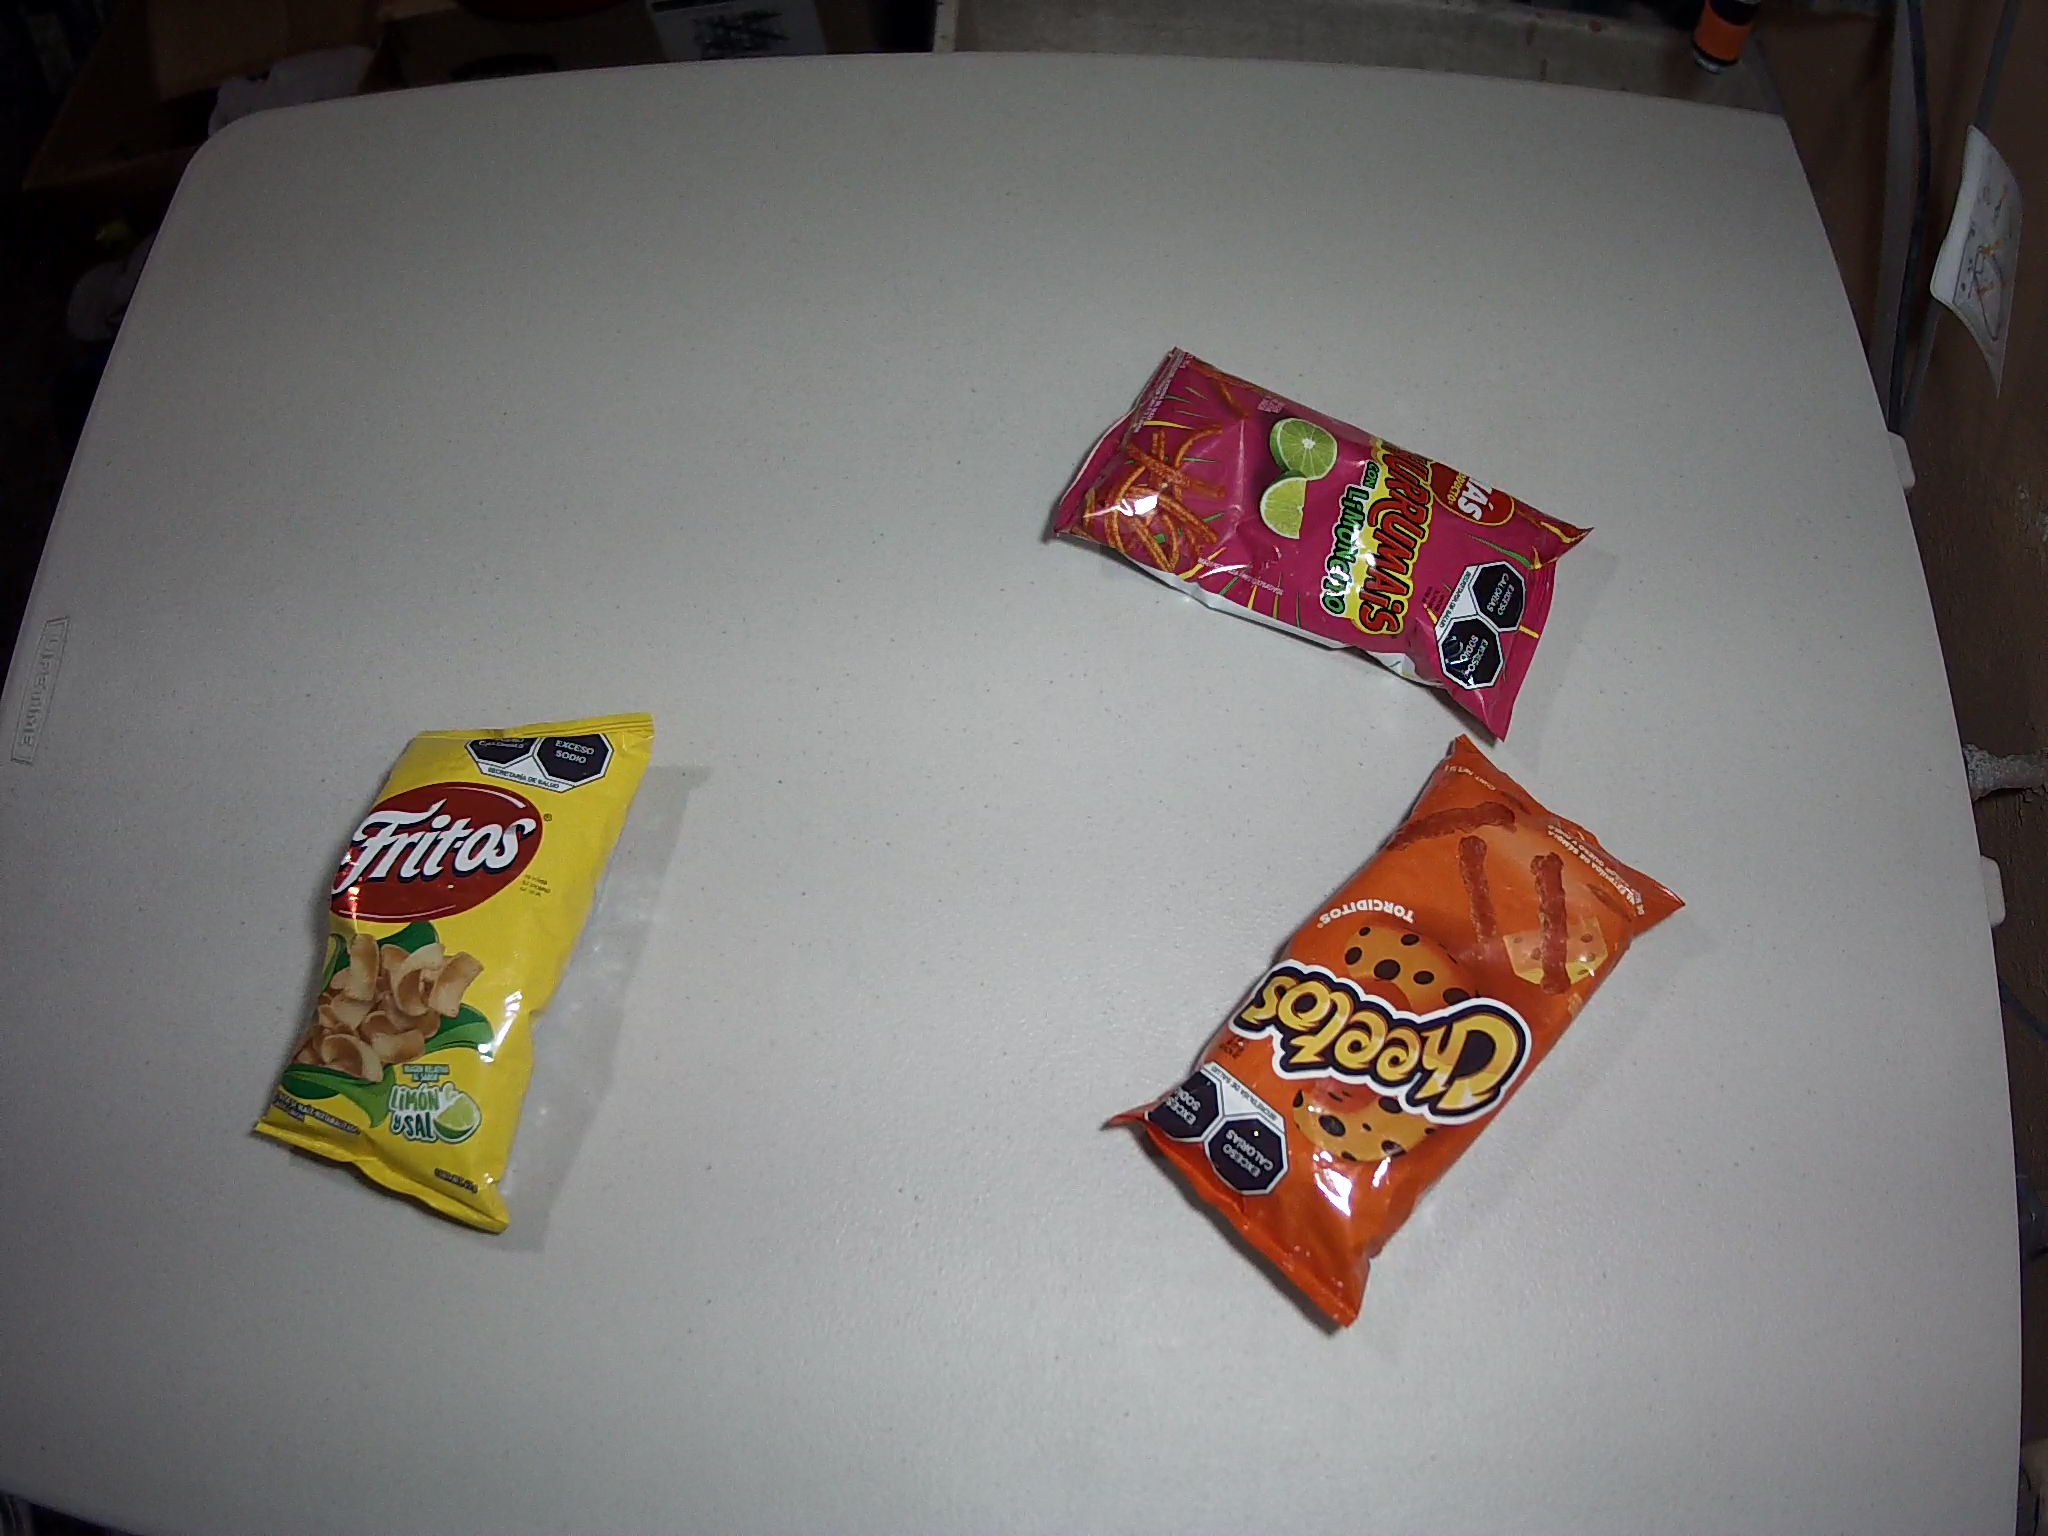CheetosTorciditos_55_F: (1105, 733, 1687, 1326)
Churrumais_70_F: (1051, 347, 1596, 745)
FritosSalLimon_65_F: (252, 715, 656, 1234)
